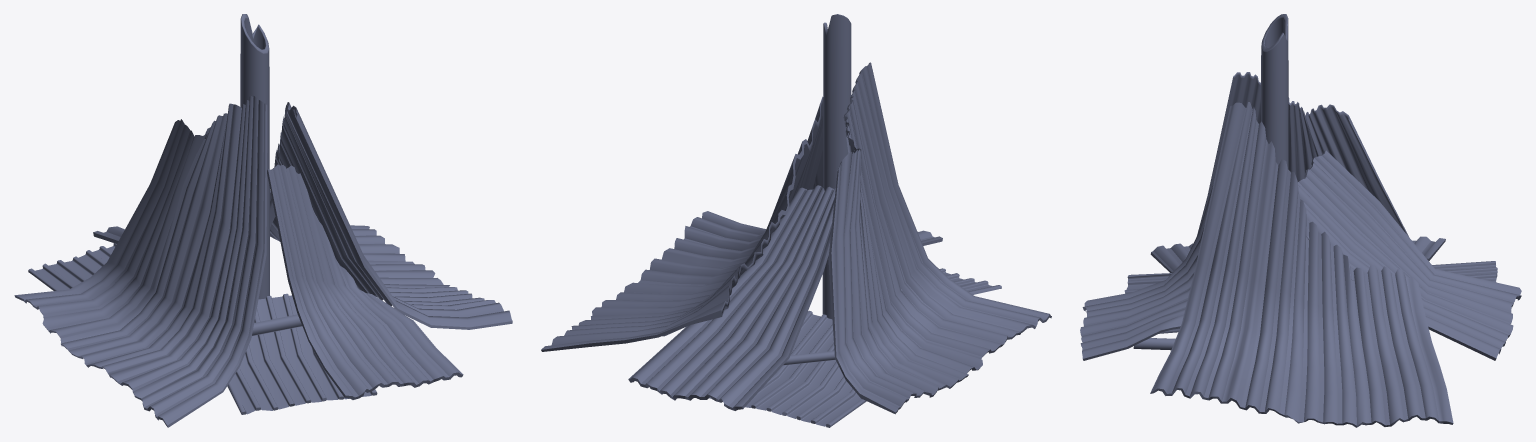
File: SM_Roof_02.fbx
3 views of the same model, side by side, from view 1: azimuth 30°, elevation 25°; view 2: azimuth 150°, elevation 25°; view 3: azimuth 270°, elevation 25° (orthographic). The views are drawn at different scales.
Parts seen in each view (by area): view 1: Roof2; view 2: Roof2; view 3: Roof2.
Part boxes in pixels (<box>): Roof2: <box>14,14,512,427</box>; Roof2: <box>541,14,1051,427</box>; Roof2: <box>1080,14,1521,427</box>.
Bounding box in the file's own units: 699 × 616 × 771.
